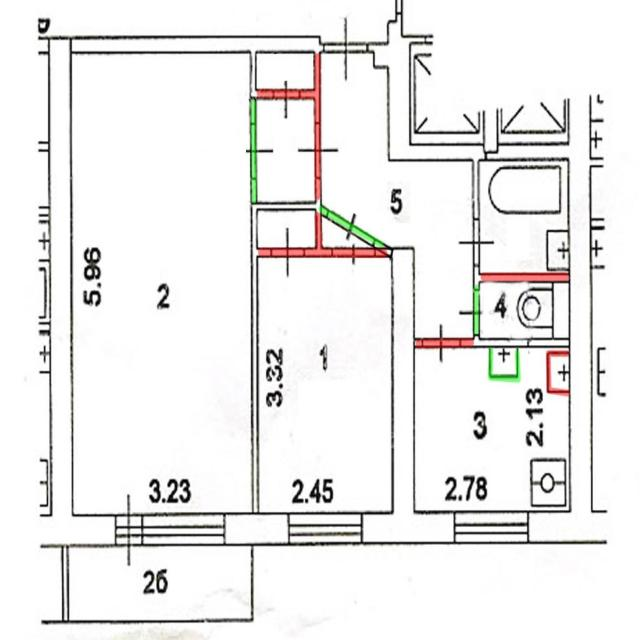Bathrooms: (481, 163, 569, 271), (481, 284, 569, 338), (38, 222, 49, 322), (591, 88, 606, 157)
Corridors: (322, 54, 472, 337), (70, 548, 252, 619), (257, 100, 314, 200), (258, 212, 315, 248), (258, 54, 313, 88), (39, 548, 59, 622), (323, 218, 369, 247), (592, 169, 605, 217), (37, 153, 48, 205)
Doors: (325, 15, 369, 82), (297, 123, 340, 178), (114, 493, 143, 571), (327, 206, 376, 248), (270, 226, 305, 281), (244, 122, 276, 179), (458, 218, 495, 267), (421, 322, 460, 365), (458, 290, 488, 335), (273, 78, 300, 122), (331, 242, 375, 268)
LBwalls: (39, 36, 116, 548), (529, 90, 608, 545), (363, 247, 454, 545), (373, 19, 486, 162), (72, 37, 321, 54), (225, 512, 290, 546), (483, 109, 498, 153), (38, 37, 48, 55)
Offices: (73, 55, 252, 511), (259, 259, 391, 511), (416, 350, 569, 510), (593, 232, 607, 511), (38, 332, 50, 515)
Walls: (250, 178, 333, 513), (473, 267, 570, 291), (300, 44, 325, 123), (250, 52, 274, 123), (485, 143, 569, 160), (460, 338, 569, 348), (61, 544, 68, 625), (473, 161, 480, 221), (591, 217, 605, 231), (411, 35, 434, 43), (591, 157, 605, 167), (38, 140, 48, 153), (39, 322, 50, 333), (396, 0, 402, 19), (367, 40, 375, 53), (39, 206, 48, 217), (415, 338, 421, 349), (474, 335, 480, 339)
Windows: (142, 513, 225, 546), (288, 511, 363, 545), (453, 511, 529, 544)
